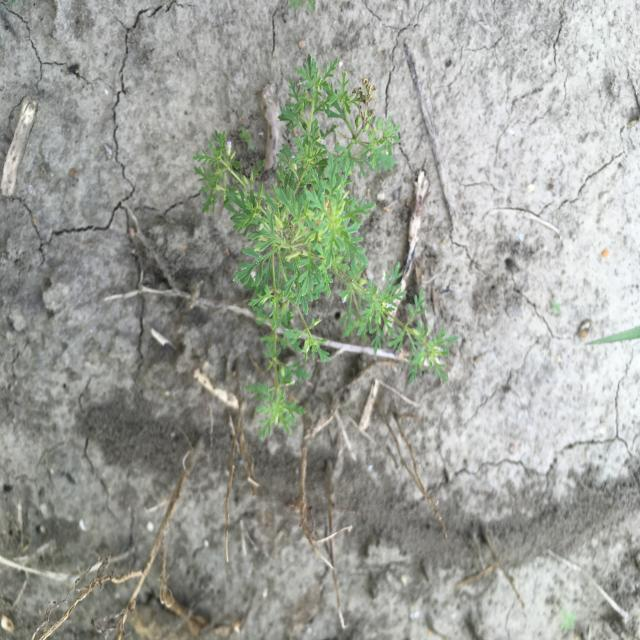Ragweed: (190, 52, 460, 440)
